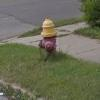Hydrant: (29, 7, 79, 67)
